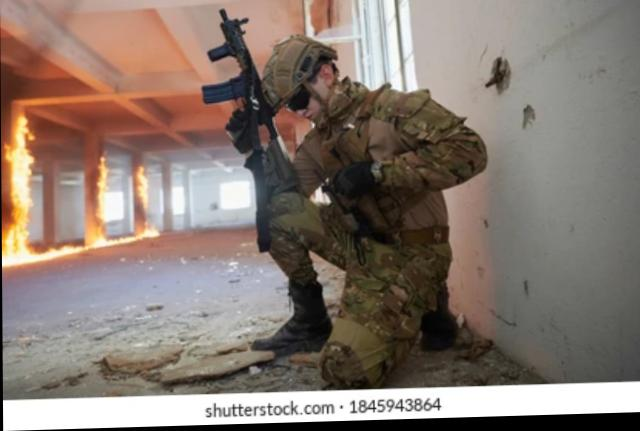other: (256, 43, 454, 378)
